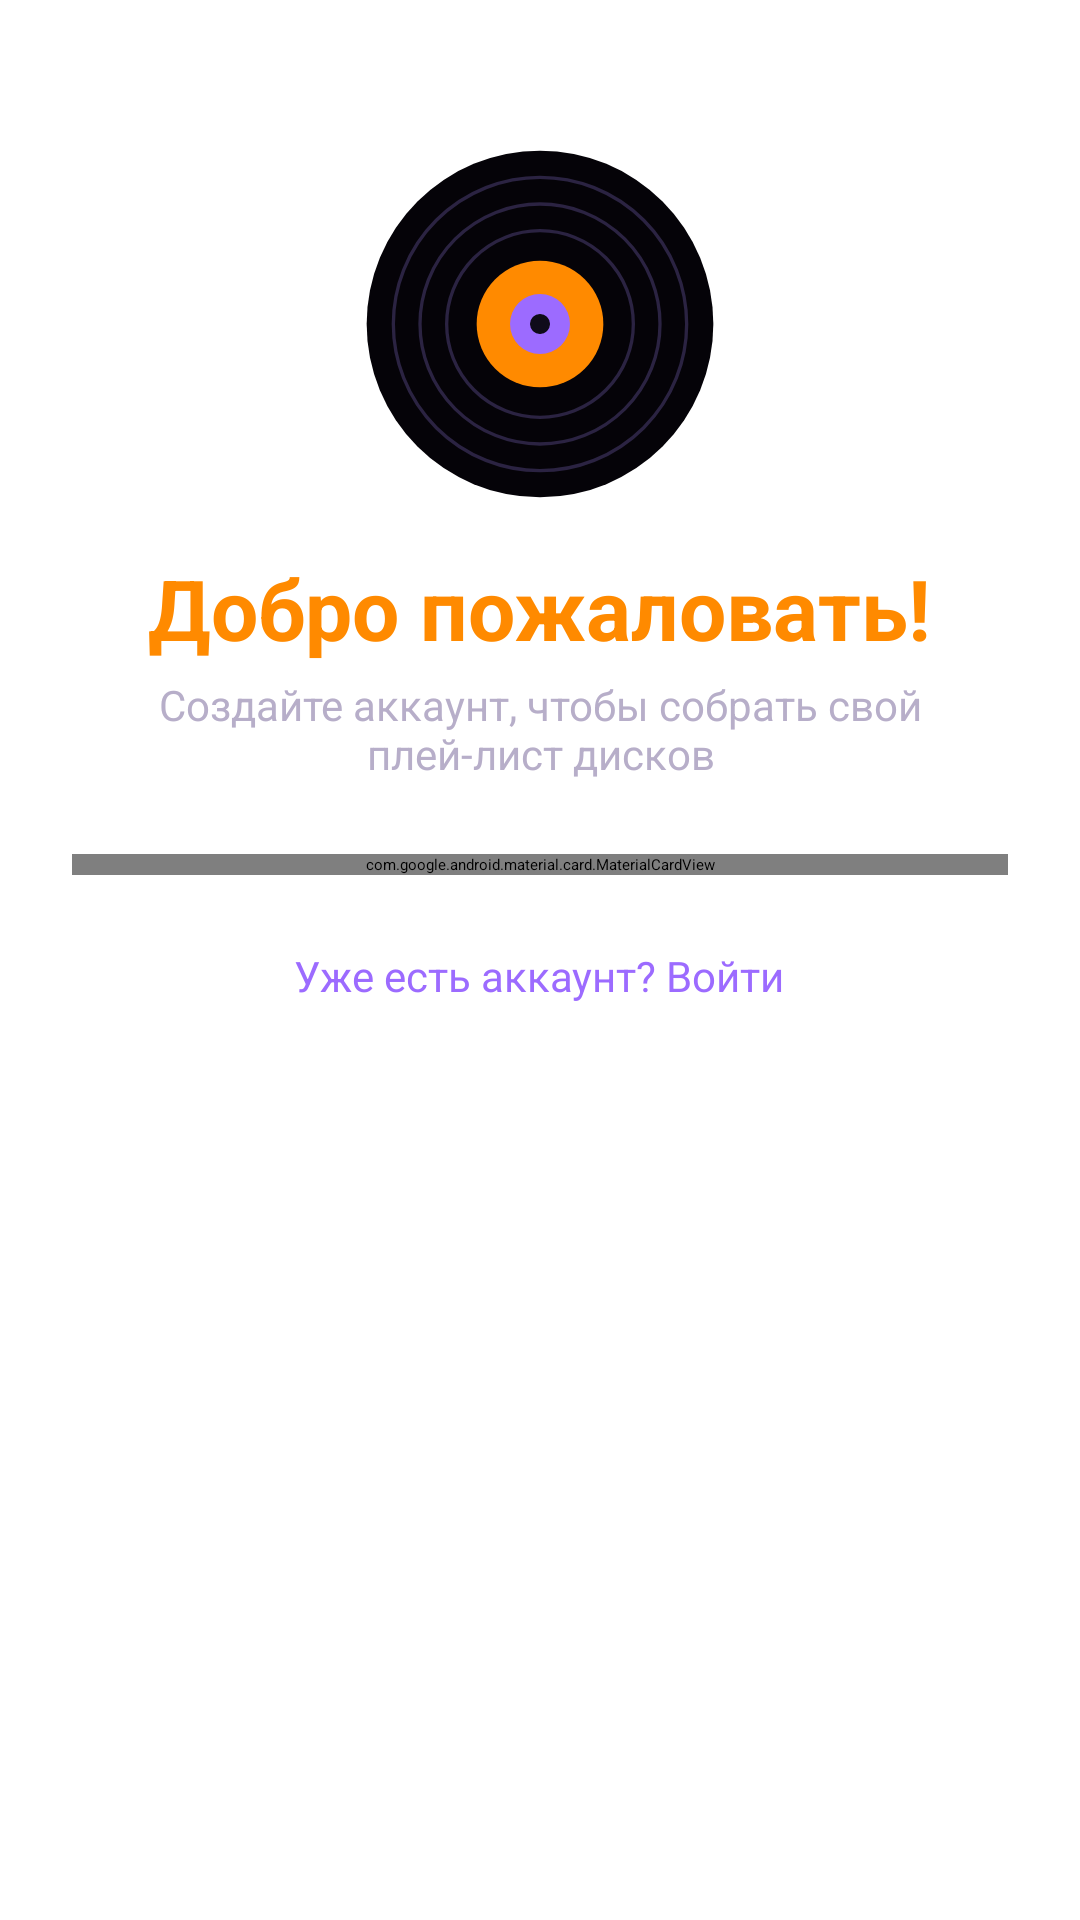

Screen size 1080 × 1920. Icon name, then its center in pixels as (x=x, y=y):
Виниловый диск: (x=540, y=324)
